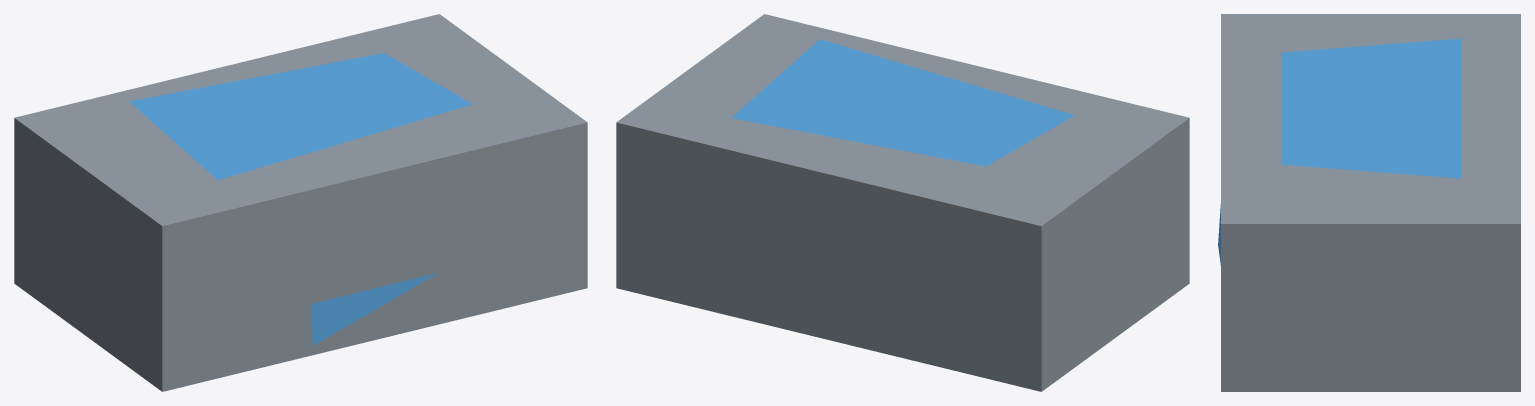
Rendered from AL_PioneerHarvester_LOD1.glb.
3 renders of one model, left to right at view 1: azimuth 30°, elevation 25°; view 2: azimuth 150°, elevation 25°; view 3: azimuth 270°, elevation 25°, orthographic.
Visible parts, largest first — view 1: EntranceGate; view 2: EntranceGate; view 3: EntranceGate.
Part boxes in pixels (box(x1,y1,x2,y2)): EntranceGate: box(14, 14, 587, 391); EntranceGate: box(616, 14, 1189, 391); EntranceGate: box(1218, 14, 1520, 391).
Size of the model in its own units: 580 by 239 by 353.
